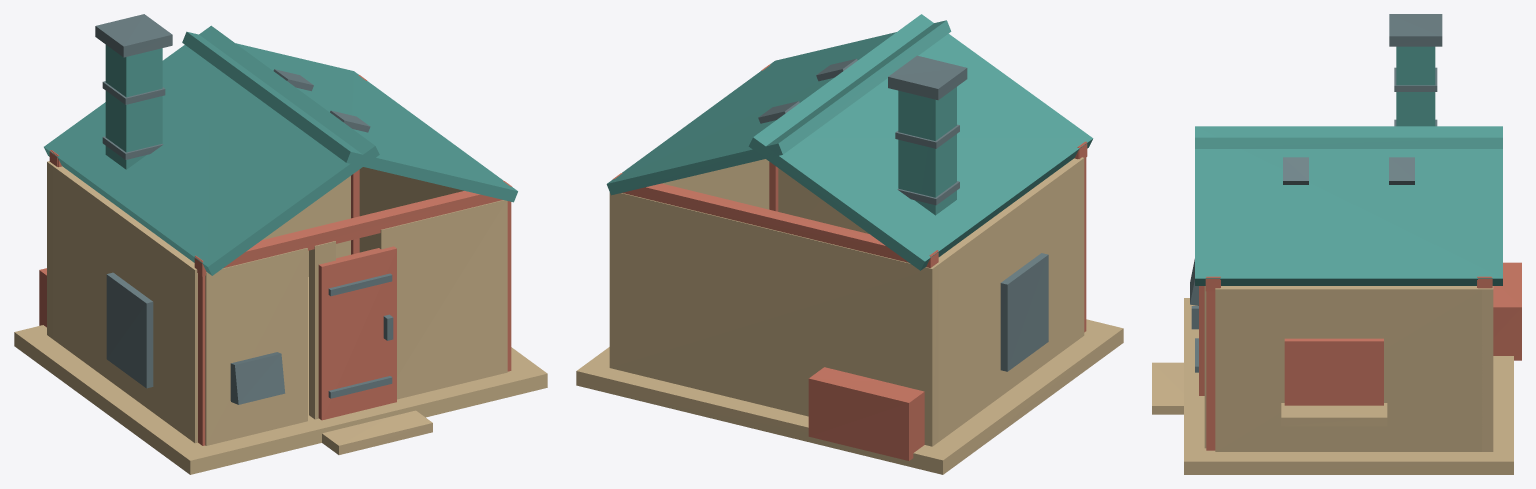
The model's file is Bakery.glb.
3 renders of one model, left to right at view 1: azimuth 30°, elevation 25°; view 2: azimuth 150°, elevation 25°; view 3: azimuth 270°, elevation 25°, orthographic. The views are drawn at different scales.
Parts seen in each view (by area): view 1: bakery-static-bakery-pale-plaster-mat, bakery-static-bakery-terracotta-roof-chimney-mat, bakery-static-bakery-weathered-timber-mat, bakery-static-bakery-warm-foundation-stone-mat, bakery-static-bakery-dark-oven-iron-mat; view 2: bakery-static-bakery-pale-plaster-mat, bakery-static-bakery-terracotta-roof-chimney-mat, bakery-static-bakery-weathered-timber-mat, bakery-static-bakery-warm-foundation-stone-mat, bakery-static-bakery-dark-oven-iron-mat; view 3: bakery-static-bakery-terracotta-roof-chimney-mat, bakery-static-bakery-pale-plaster-mat, bakery-static-bakery-warm-foundation-stone-mat, bakery-static-bakery-weathered-timber-mat, bakery-static-bakery-dark-oven-iron-mat.
Part boxes in pixels (box(x1,y1,x2,y2)): bakery-static-bakery-pale-plaster-mat: box(47, 161, 507, 445); bakery-static-bakery-terracotta-roof-chimney-mat: box(44, 25, 517, 275); bakery-static-bakery-weathered-timber-mat: box(39, 75, 511, 445); bakery-static-bakery-warm-foundation-stone-mat: box(14, 277, 547, 474); bakery-static-bakery-dark-oven-iron-mat: box(95, 14, 393, 404); bakery-static-bakery-pale-plaster-mat: box(609, 157, 1084, 446); bakery-static-bakery-terracotta-roof-chimney-mat: box(606, 14, 1093, 270); bakery-static-bakery-weathered-timber-mat: box(612, 64, 1087, 460); bakery-static-bakery-warm-foundation-stone-mat: box(576, 319, 1123, 474); bakery-static-bakery-dark-oven-iron-mat: box(758, 55, 1048, 371); bakery-static-bakery-terracotta-roof-chimney-mat: box(1195, 46, 1502, 285); bakery-static-bakery-pale-plaster-mat: box(1204, 286, 1493, 451); bakery-static-bakery-warm-foundation-stone-mat: box(1152, 298, 1513, 474); bakery-static-bakery-weathered-timber-mat: box(1199, 262, 1521, 450); bakery-static-bakery-dark-oven-iron-mat: box(1190, 14, 1442, 372).
Size of the model in its own units: 4.88 by 4.29 by 4.54.
